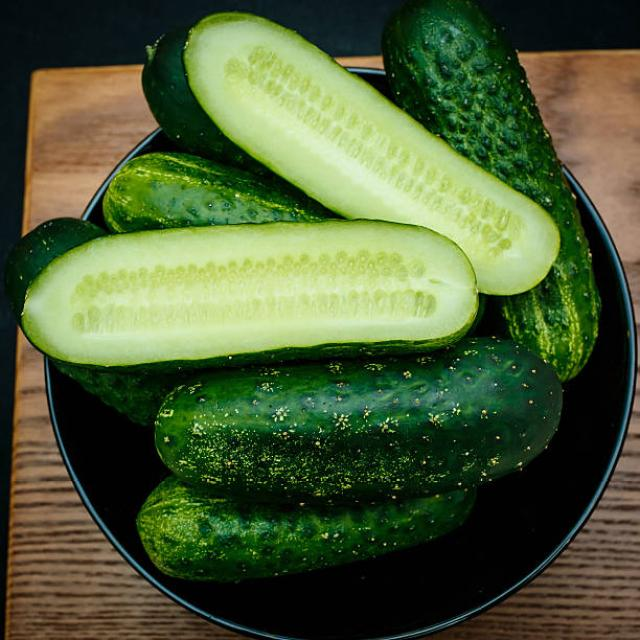cucumber: (182, 9, 556, 296), (385, 0, 600, 382), (22, 219, 480, 368), (157, 342, 565, 508), (134, 477, 494, 586)
